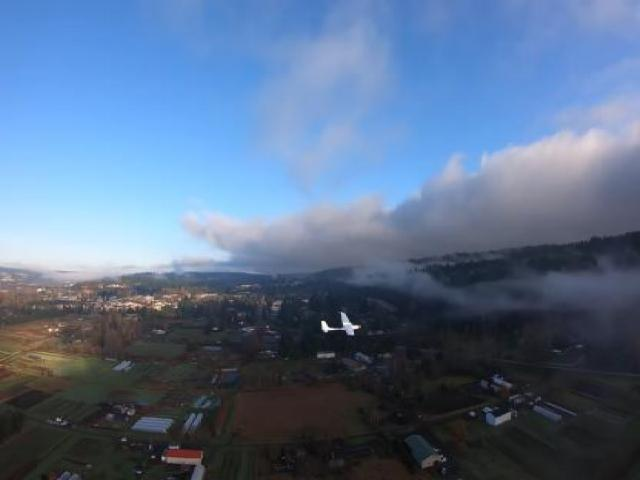uav: (313, 306, 367, 342)
